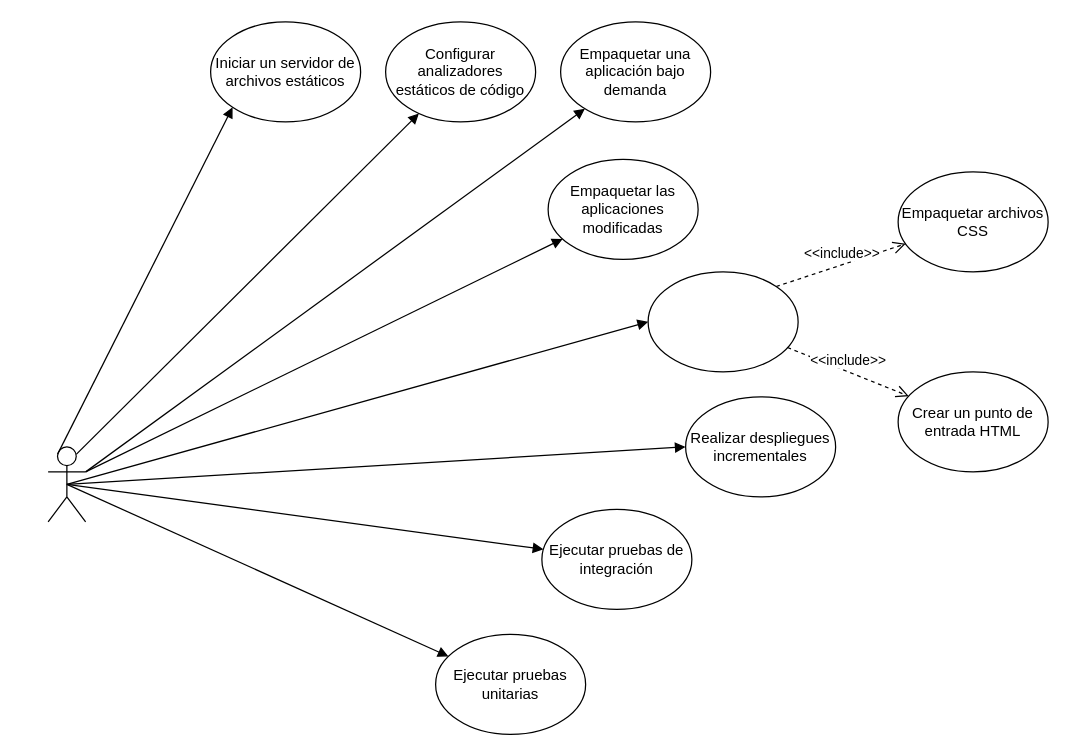
Image size: 1070x756. Some labels were removed from this diagram. Each missing label, with the box of its shape:
Desarrollador: (47, 446, 86, 522)
Empaquetar una aplicación: (647, 271, 798, 372)
